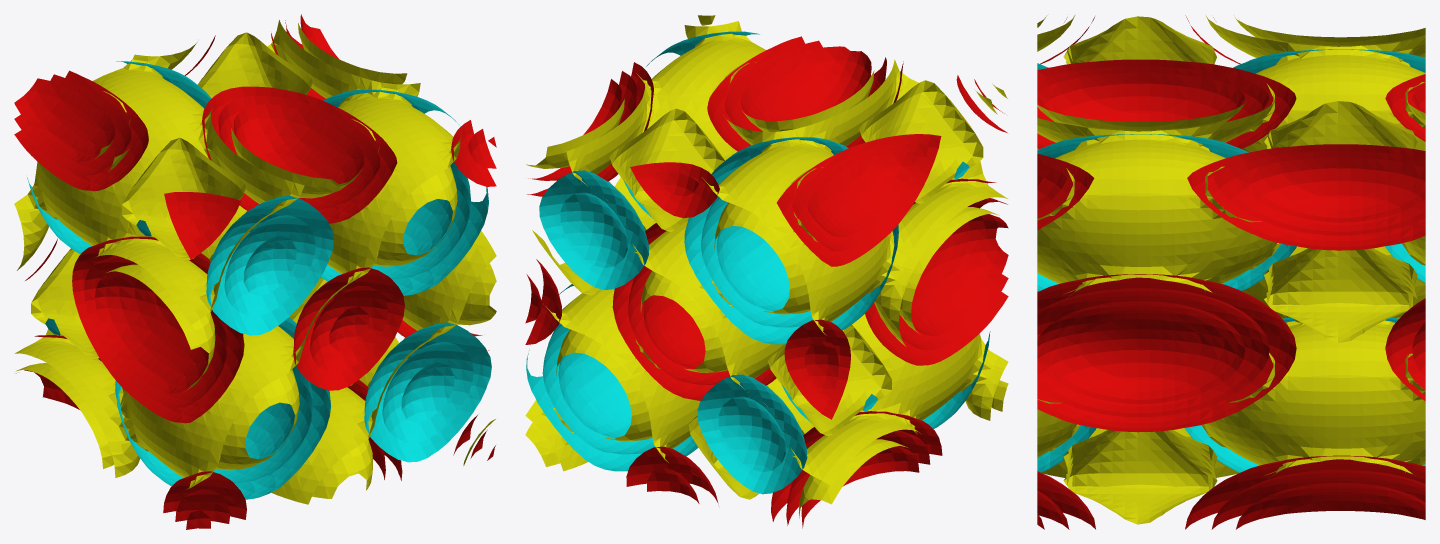
Rendered from cylinders_16_test.glb.
3 renders of one model, left to right at view 1: azimuth 30°, elevation 25°; view 2: azimuth 150°, elevation 25°; view 3: azimuth 270°, elevation 25°, orthographic. The views are drawn at different scales.
Parts seen in each view (by area): view 1: iso_0.50_channel_2, iso_0.25_channel_0, iso_0.75_channel_0, iso_0.25_channel_1, iso_0.50_channel_0, iso_0.25_channel_2, iso_0.75_channel_2, iso_0.50_channel_1, iso_0.75_channel_1; view 2: iso_0.50_channel_2, iso_0.75_channel_0, iso_0.25_channel_0, iso_0.25_channel_1, iso_0.75_channel_2, iso_0.50_channel_0, iso_0.25_channel_2, iso_0.50_channel_1, iso_0.75_channel_1; view 3: iso_0.50_channel_2, iso_0.75_channel_0, iso_0.75_channel_2, iso_0.25_channel_0, iso_0.50_channel_0, iso_0.25_channel_1, iso_0.25_channel_2.
Part boxes in pixels (x1,y1,x2,y2): iso_0.50_channel_2: [14, 20, 496, 504]; iso_0.25_channel_0: [14, 33, 496, 519]; iso_0.75_channel_0: [14, 14, 496, 529]; iso_0.25_channel_1: [27, 61, 491, 499]; iso_0.50_channel_0: [14, 20, 496, 523]; iso_0.25_channel_2: [16, 23, 496, 498]; iso_0.75_channel_2: [31, 32, 405, 387]; iso_0.50_channel_1: [213, 162, 473, 483]; iso_0.75_channel_1: [243, 199, 454, 459]; iso_0.50_channel_2: [525, 21, 1008, 486]; iso_0.75_channel_0: [583, 46, 1008, 528]; iso_0.25_channel_0: [525, 36, 1008, 521]; iso_0.25_channel_1: [526, 31, 990, 494]; iso_0.75_channel_2: [532, 80, 983, 499]; iso_0.50_channel_0: [525, 40, 1008, 525]; iso_0.25_channel_2: [525, 15, 1008, 518]; iso_0.50_channel_1: [542, 192, 813, 472]; iso_0.75_channel_1: [558, 226, 789, 437]; iso_0.50_channel_2: [1037, 15, 1425, 477]; iso_0.75_channel_0: [1037, 72, 1425, 529]; iso_0.75_channel_2: [1063, 16, 1417, 524]; iso_0.25_channel_0: [1037, 15, 1425, 529]; iso_0.50_channel_0: [1037, 17, 1425, 529]; iso_0.25_channel_1: [1037, 49, 1425, 472]; iso_0.25_channel_2: [1037, 16, 1425, 131].
Bounding box in the file's own units: 31 × 31 × 31.
